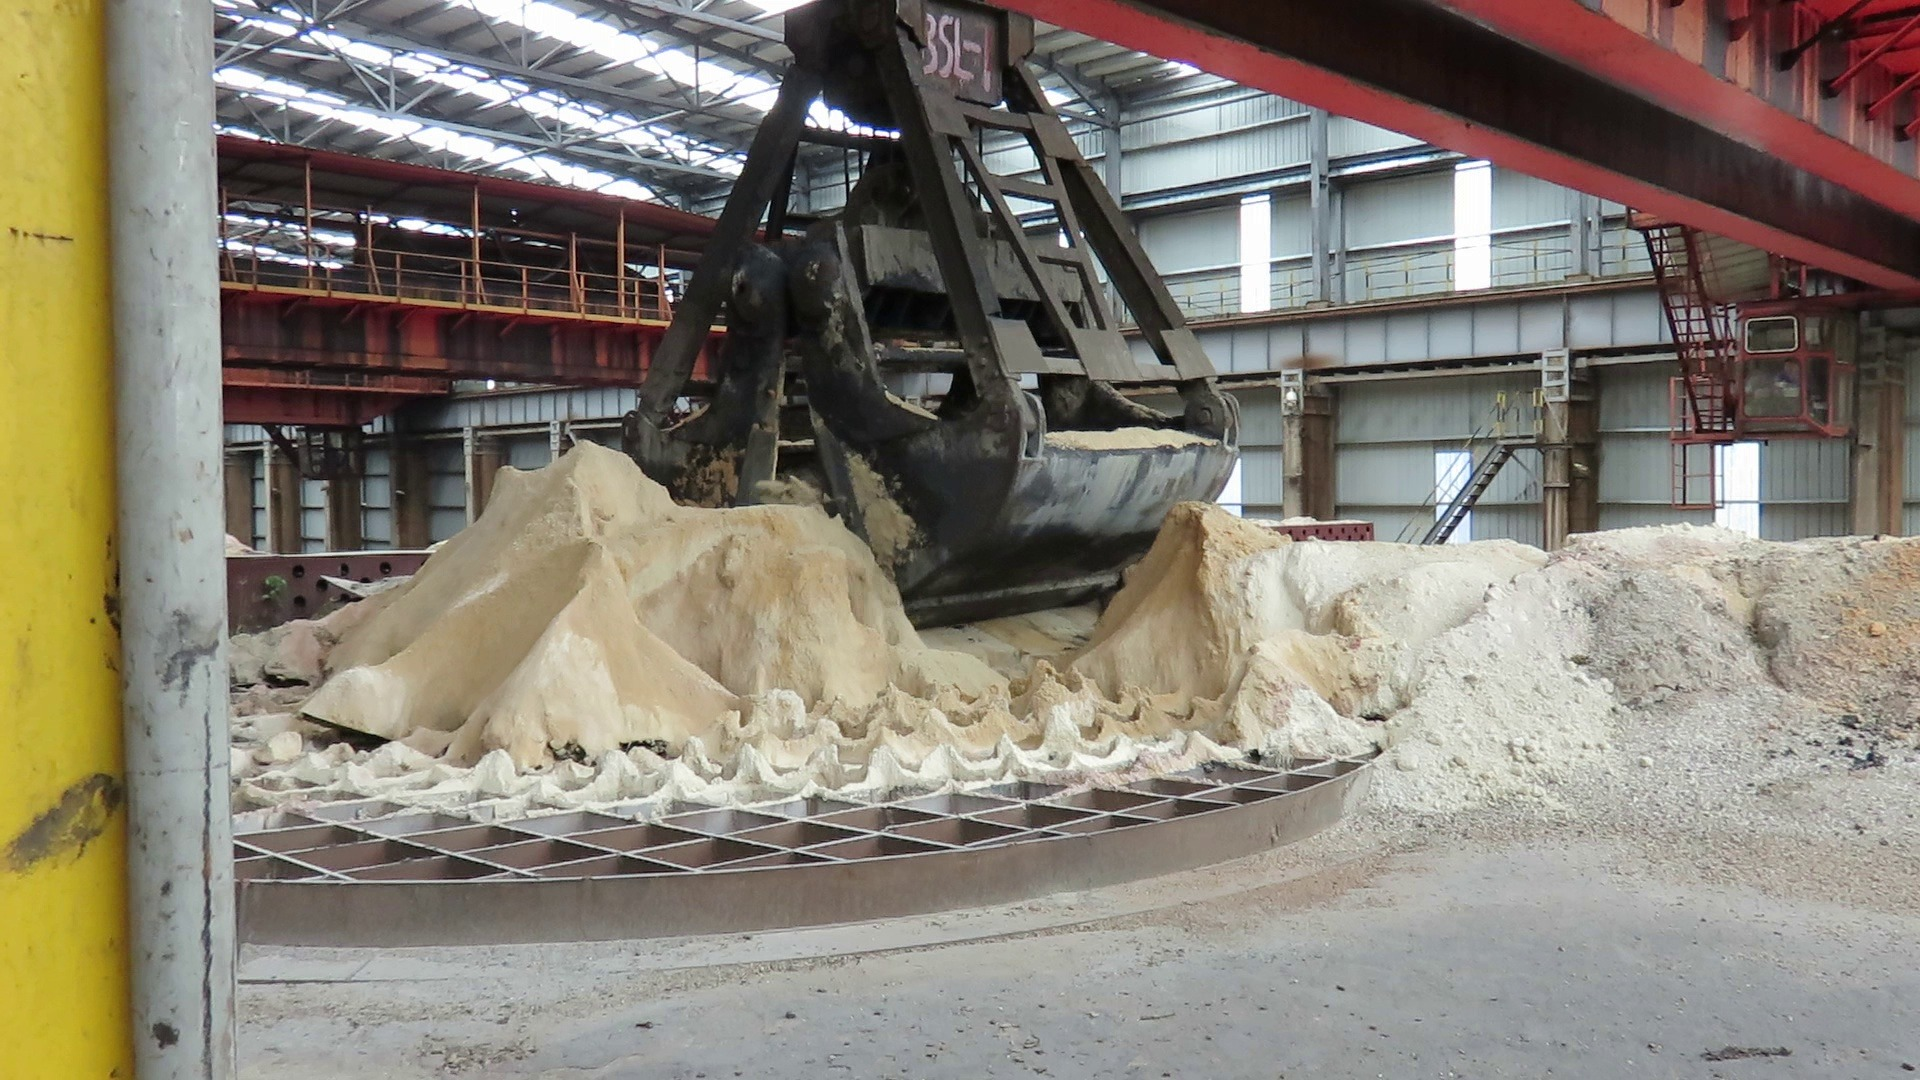grab: (616, 0, 1250, 640)
